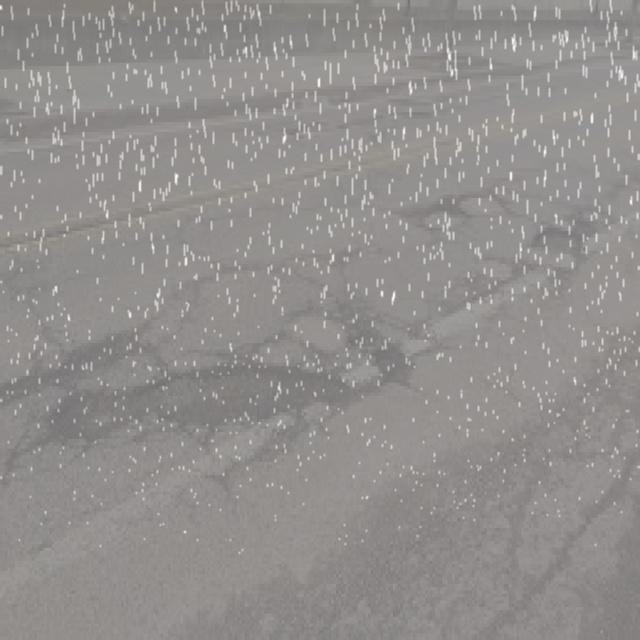Pothole: (0, 295, 425, 451), (408, 184, 522, 230), (516, 225, 591, 271), (472, 245, 520, 287)
